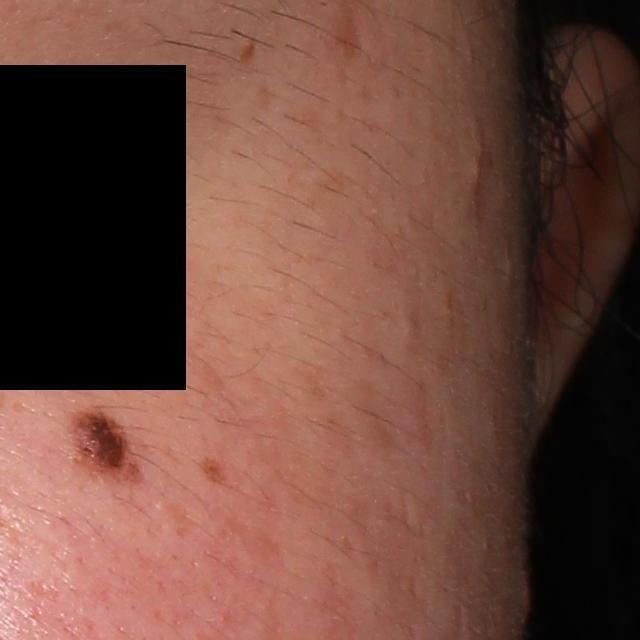melasma: (194, 457, 234, 491), (238, 40, 257, 71)
nevus: (70, 409, 145, 484)
